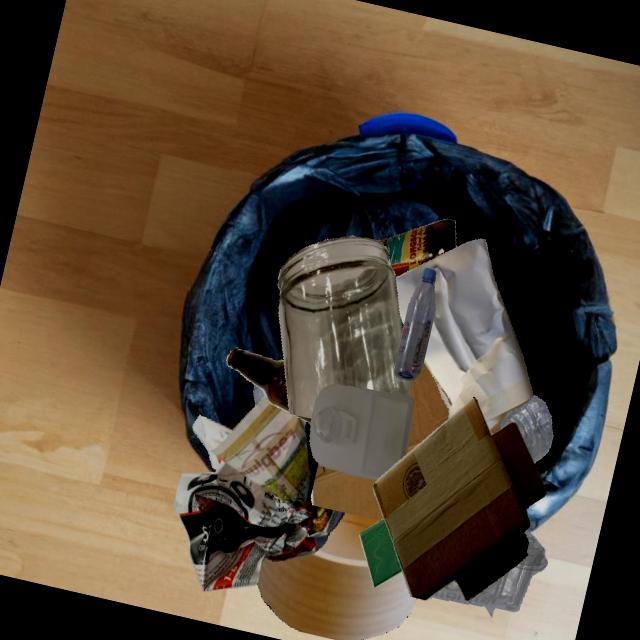cardboard: (372, 397, 545, 600), (383, 397, 490, 518), (310, 463, 383, 521)
combustible waste: (256, 513, 416, 640)
glass: (278, 236, 410, 418), (377, 218, 455, 277), (226, 347, 289, 413)
paper: (173, 394, 344, 591), (395, 238, 533, 431), (358, 518, 402, 587)
plastic: (428, 529, 547, 616), (309, 383, 414, 479), (393, 267, 435, 380), (499, 394, 552, 463), (252, 384, 265, 407)
